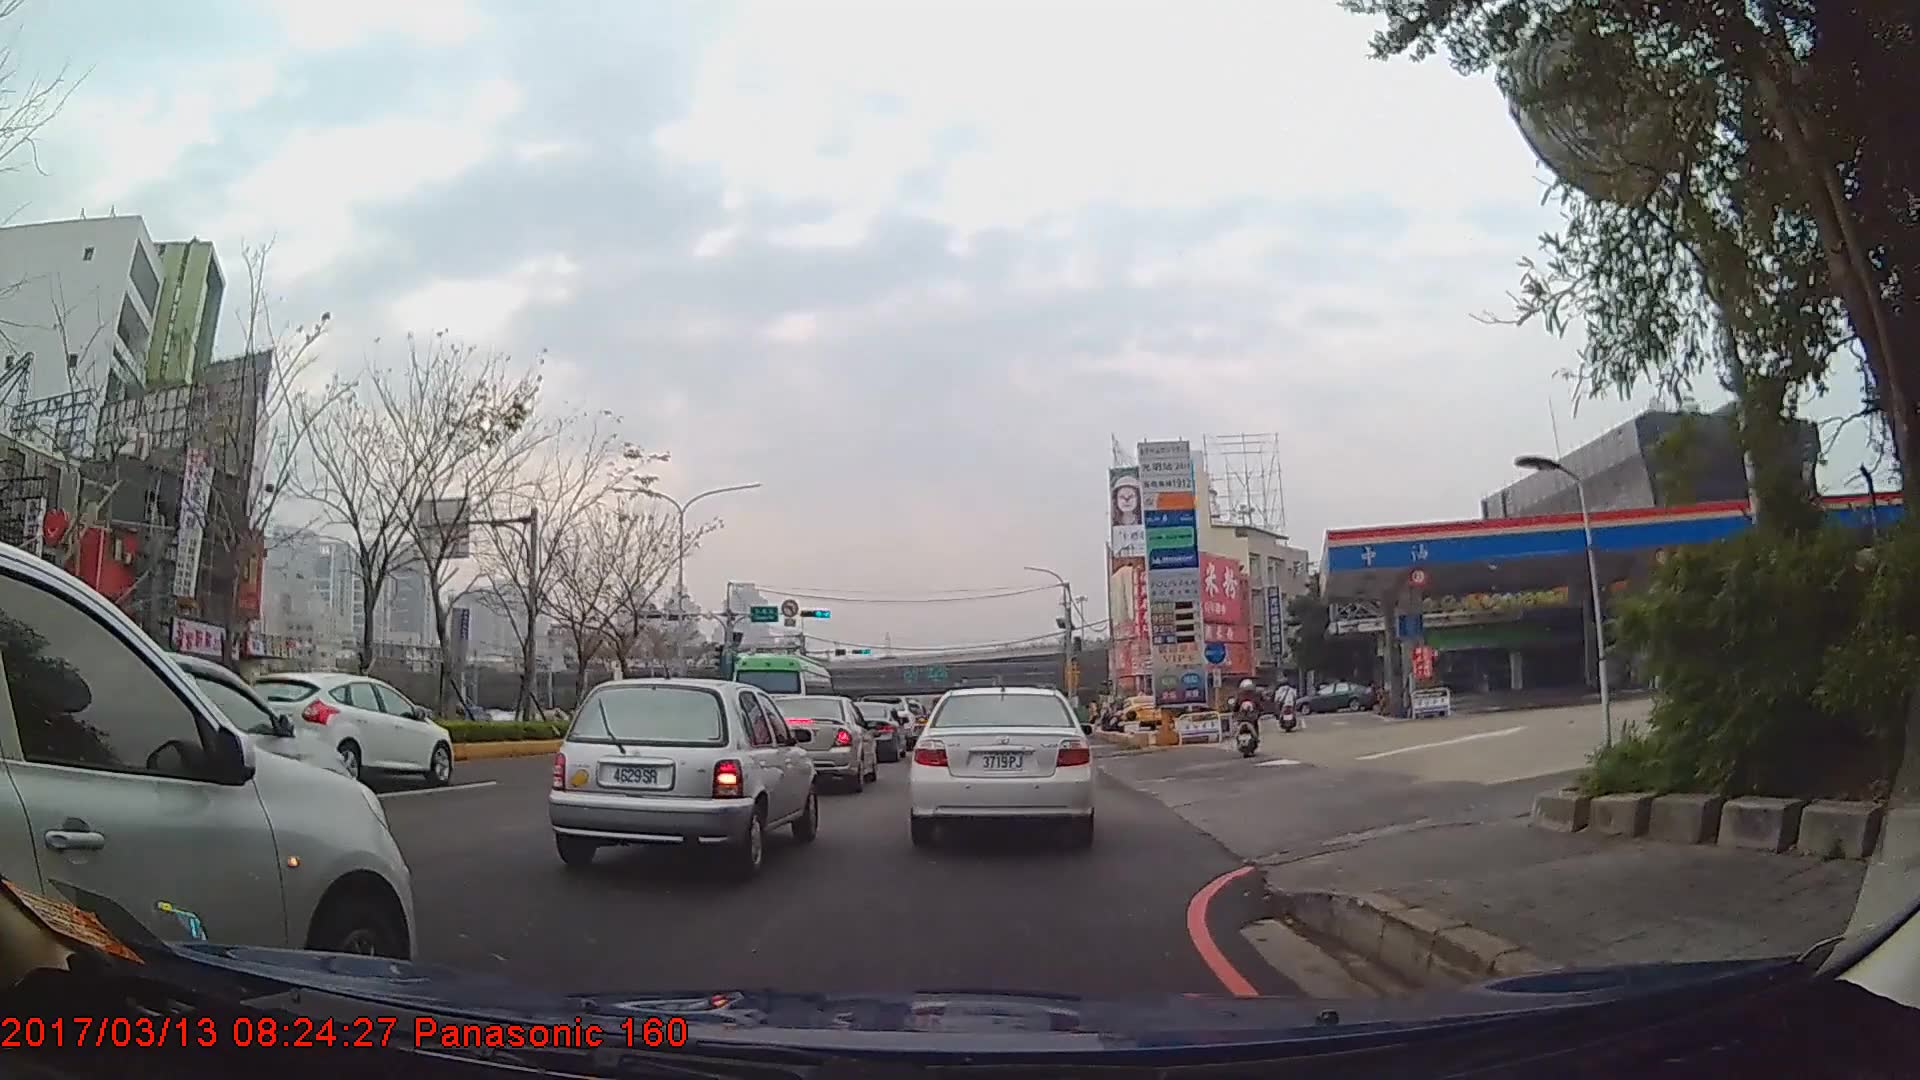rider: (1230, 674, 1263, 754), (1275, 680, 1299, 733)
vehicle: (0, 540, 416, 1013), (545, 671, 817, 875), (911, 682, 1094, 847), (233, 671, 454, 788), (749, 691, 874, 791), (726, 649, 831, 739), (831, 698, 907, 764), (1295, 678, 1375, 711), (1115, 690, 1165, 725)
